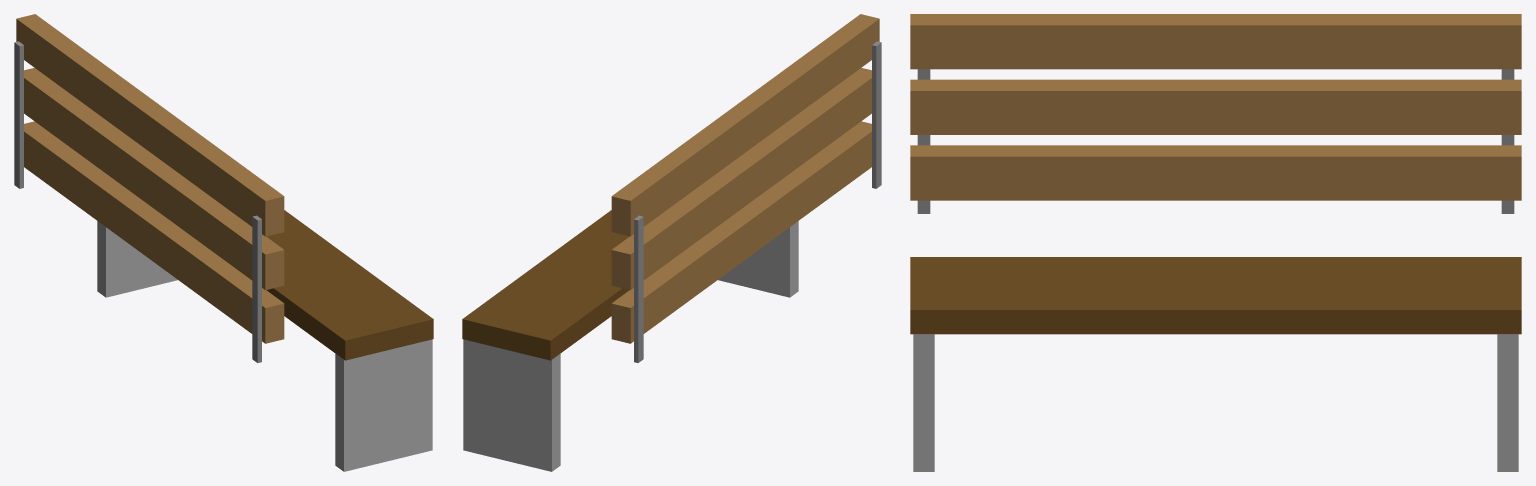
File: FBX_Bench.fbx
The picture shows the model from 3 angles, left to right: view 1: azimuth 30°, elevation 25°; view 2: azimuth 150°, elevation 25°; view 3: azimuth 270°, elevation 25°; orthographic projection. The views are drawn at different scales.
Parts seen in each view (by area): view 1: Cube.002; view 2: Cube.002; view 3: Cube.002.
Part boxes in pixels (x1,y1,x2,y2): Cube.002: (14,14,433,471); Cube.002: (462,14,881,471); Cube.002: (910,14,1521,471).
Bounding box in the file's own units: 1171 × 1884 × 2920.
